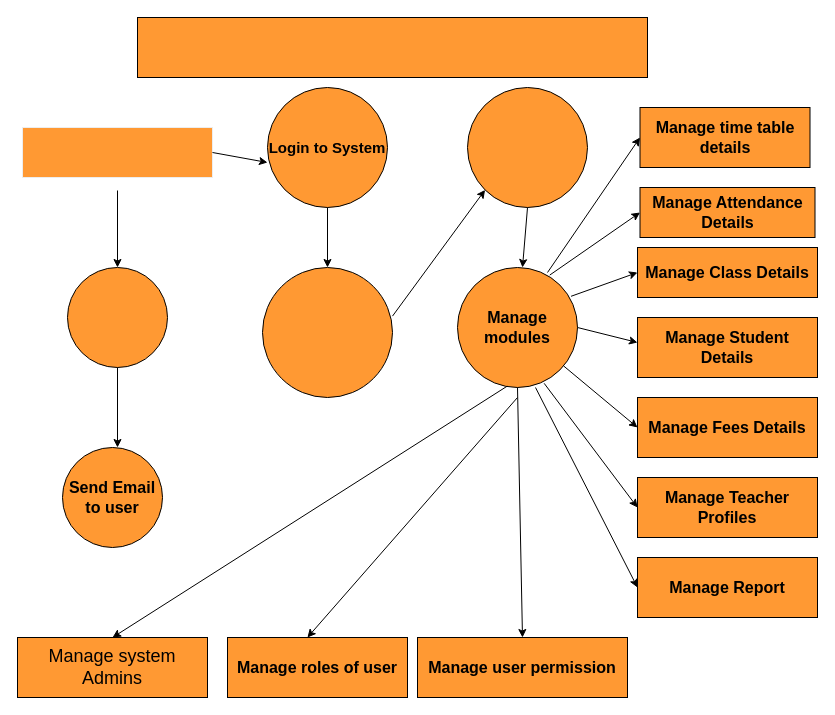
This 835x715 diagram has some shape labels left out. The shapes that lost their labels are listed below. From the top down, each one's box as (x1, y1, x2, y2) in pixels, then its label:
(136, 16, 648, 78): student information system
(22, 126, 212, 178): Admin
(466, 86, 588, 208): Check Roles of access
(66, 266, 168, 368): Forgot Password
(262, 266, 392, 398): Check credentials
